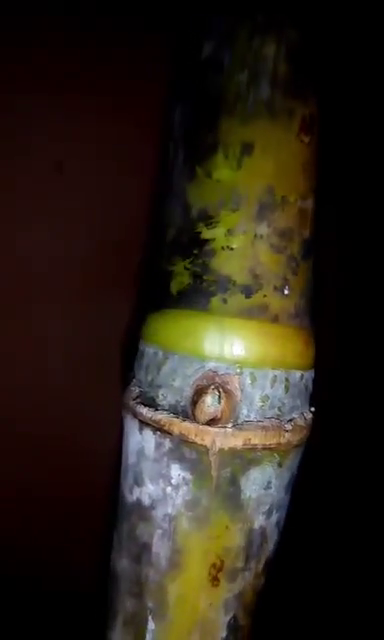cane eye: (192, 375, 233, 428)
